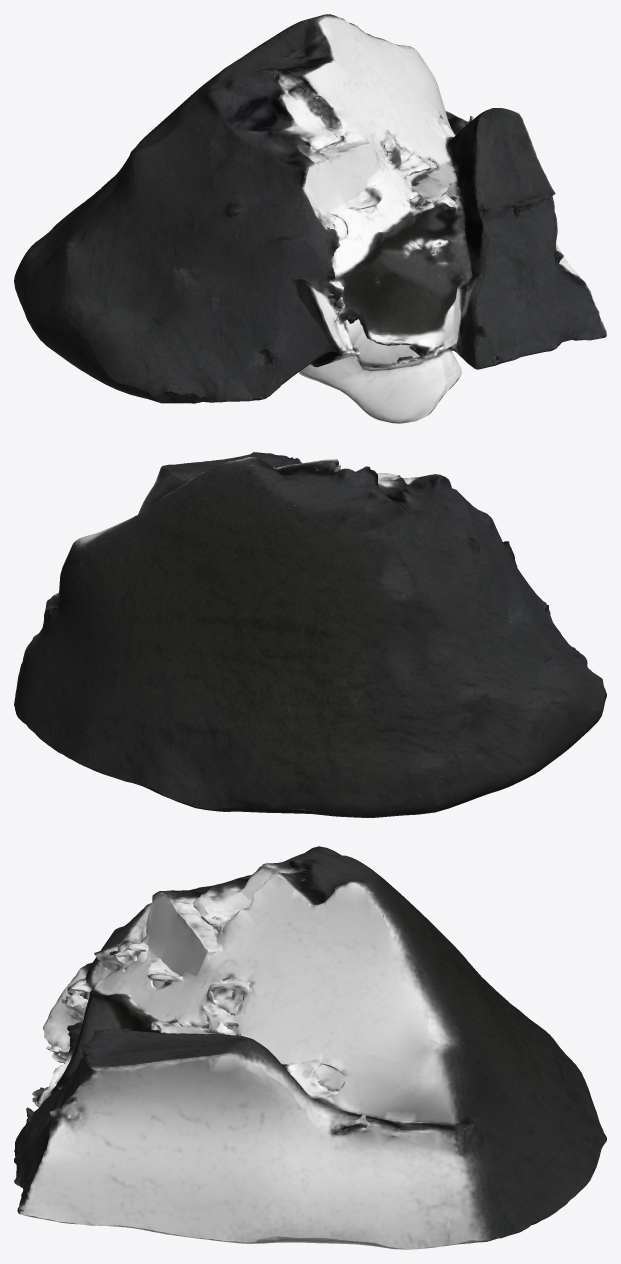
The picture shows the model from 3 angles, top to bottom: view 1: azimuth 30°, elevation 25°; view 2: azimuth 150°, elevation 25°; view 3: azimuth 270°, elevation 25°; orthographic projection. The views are drawn at different scales.
Visible parts, largest first — view 1: world; view 2: world; view 3: world.
Part boxes in pixels (bbox=[...]): world: bbox=[14, 14, 606, 423]; world: bbox=[14, 452, 606, 817]; world: bbox=[14, 846, 606, 1249].
Size of the model in its own units: 0.12 by 0.0689 by 0.1203.
1 material, 1 textured.
